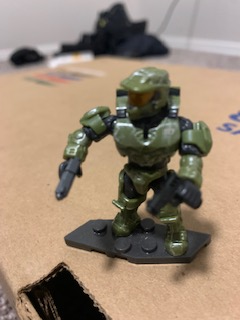chief: (56, 64, 213, 254)
pistol: (144, 171, 203, 218), (54, 156, 81, 201)
spartan: (58, 66, 215, 256)
